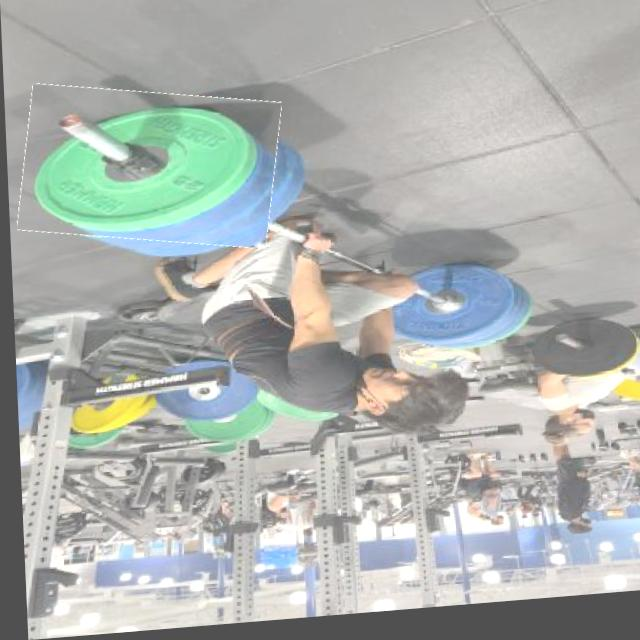barbell: (16, 79, 281, 260)
